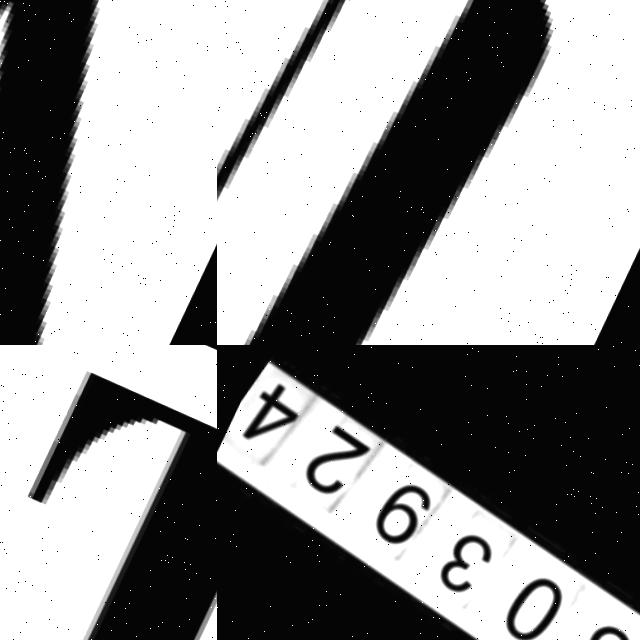0: (490, 550, 593, 640)
2: (293, 410, 387, 514)
3: (427, 510, 519, 613)
4: (226, 363, 323, 470)
8: (562, 598, 640, 640)
9: (358, 457, 458, 568)
L: (0, 354, 217, 640)
U: (217, 0, 596, 345)
W: (0, 0, 217, 345)
